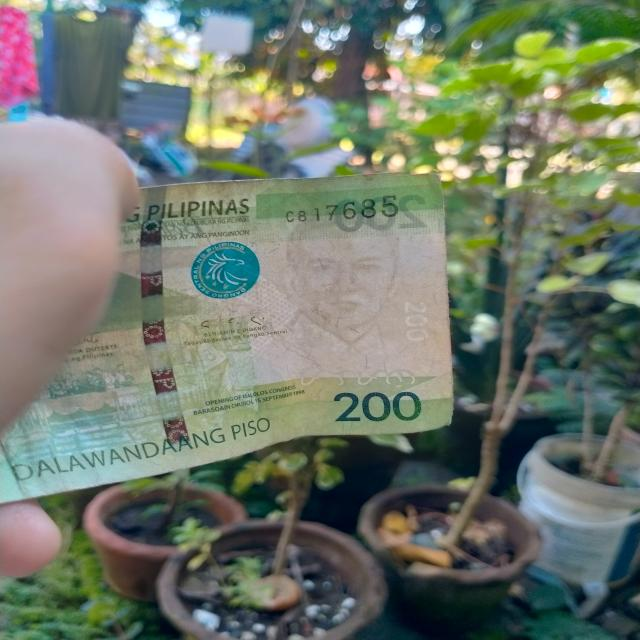security_thread: (142, 184, 193, 463)
see_through_mark: (278, 366, 420, 393)
serial_number: (282, 192, 401, 225)
value_watermark: (400, 298, 434, 348)
watermark: (268, 208, 410, 380)
